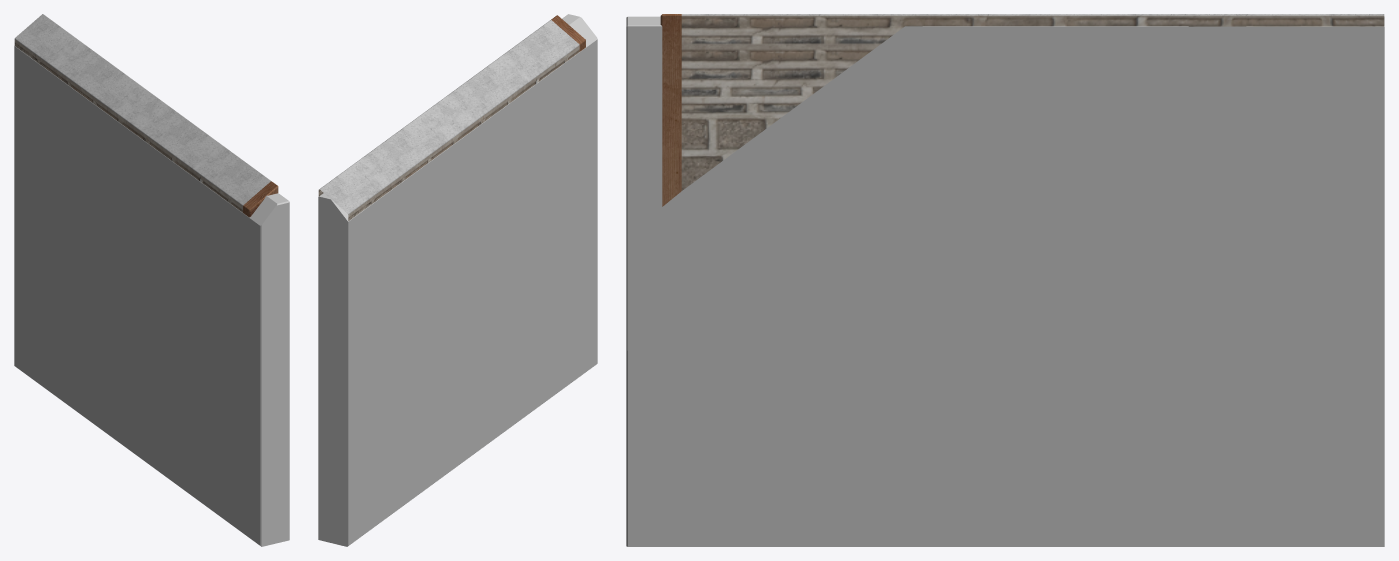
Rendered from SM_SJB_StoneWall04C.fbx.
3 renders of one model, left to right at view 1: azimuth 30°, elevation 25°; view 2: azimuth 150°, elevation 25°; view 3: azimuth 270°, elevation 25°, orthographic. The views are drawn at different scales.
Visible parts, largest first — view 1: SM_SJB_StoneWall04C_ConvexHulls, SM_SJB_StoneWall04C; view 2: SM_SJB_StoneWall04C_ConvexHulls, SM_SJB_StoneWall04C; view 3: SM_SJB_StoneWall04C_ConvexHulls, SM_SJB_StoneWall04C.
Boxes of the visible parts, left/top/right/bottom form: SM_SJB_StoneWall04C_ConvexHulls: left=14, top=46, right=289, bottom=546; SM_SJB_StoneWall04C: left=14, top=14, right=278, bottom=217; SM_SJB_StoneWall04C_ConvexHulls: left=318, top=14, right=597, bottom=546; SM_SJB_StoneWall04C: left=318, top=15, right=585, bottom=220; SM_SJB_StoneWall04C_ConvexHulls: left=626, top=16, right=1384, bottom=546; SM_SJB_StoneWall04C: left=660, top=14, right=1384, bottom=206.
Bounding box in the file's own units: 16.99 × 245 × 190.
Materials: 2 (1 with a texture image).
